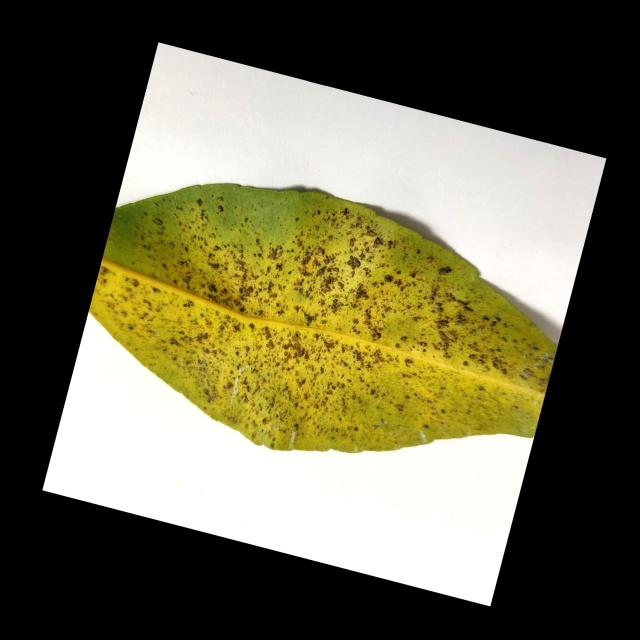melanose: (89, 184, 556, 452)
